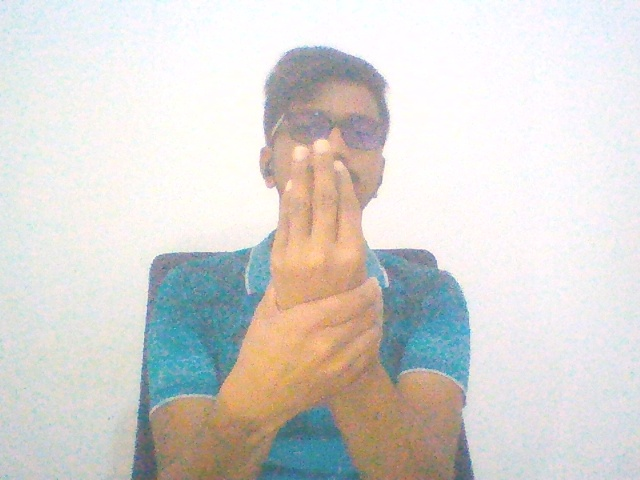tree: (215, 123, 403, 439)
